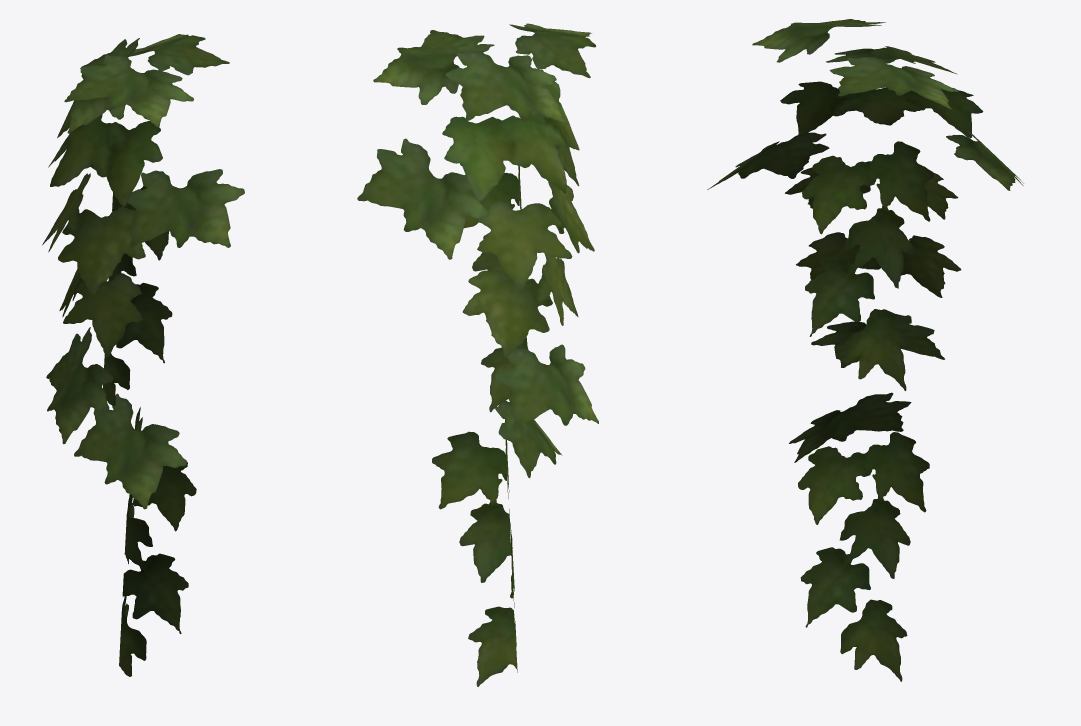
File: vine_C.fbx
The picture shows the model from 3 angles, left to right: view 1: azimuth 30°, elevation 25°; view 2: azimuth 150°, elevation 25°; view 3: azimuth 270°, elevation 25°; orthographic projection. The views are drawn at different scales.
Parts seen in each view (by area): view 1: vine_C; view 2: vine_C; view 3: vine_C.
Boxes of the visible parts, x1=… form: vine_C: x1=42, y1=34, x2=244, y2=676; vine_C: x1=357, y1=23, x2=598, y2=686; vine_C: x1=707, y1=19, x2=1023, y2=681.
Size of the model in its own units: 1.51 by 3.67 by 1.95.
